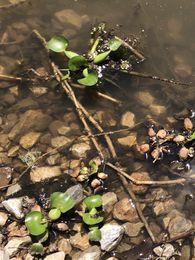water_hyacinth: (16, 154, 114, 246), (45, 15, 147, 93)
